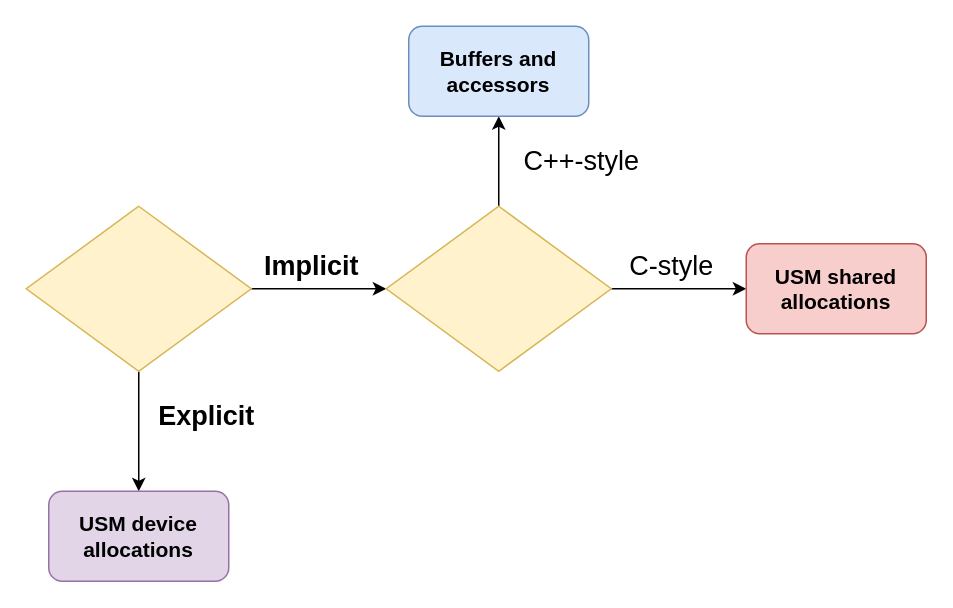
Some shapes in this 953 by 608 pixel diagram are drawn without their labels. Here are the shapes that lost their labels. From the top down, the box of each, then its label:
(25, 205, 251, 371): How should I manage data?
(385, 205, 611, 371): Abstraction?
